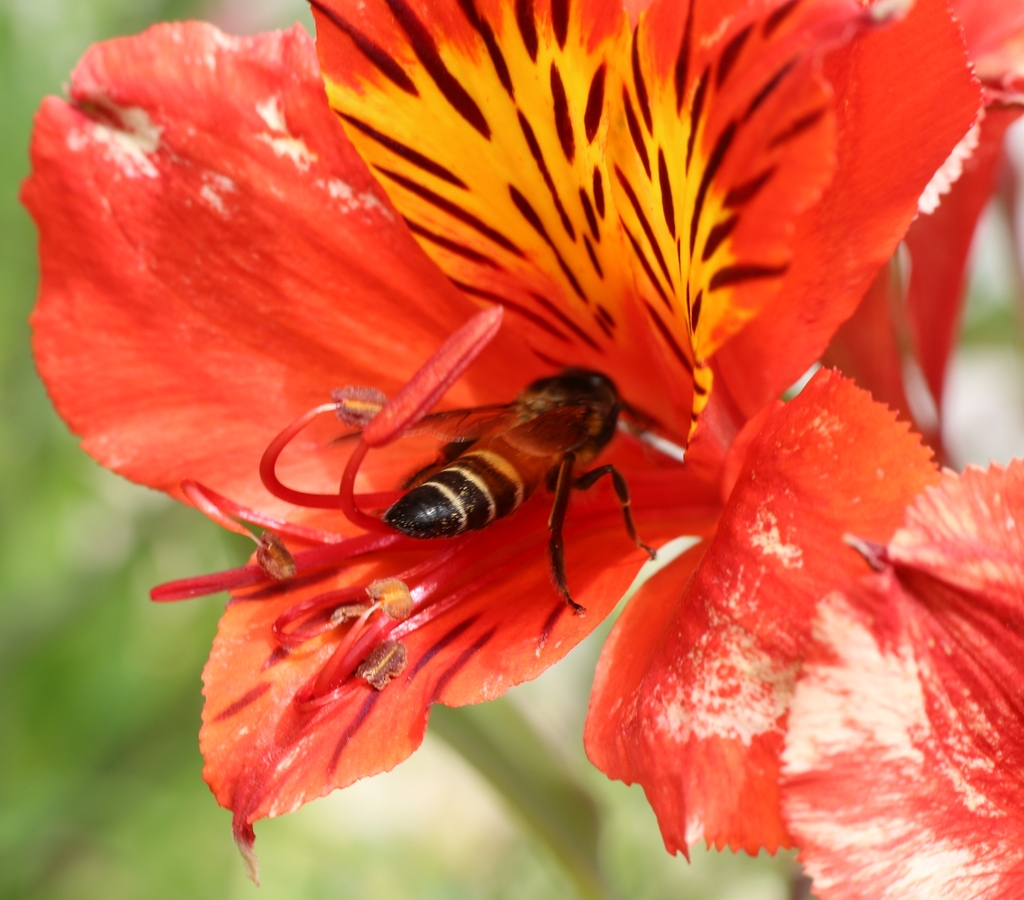honeybee: (390, 362, 657, 615)
